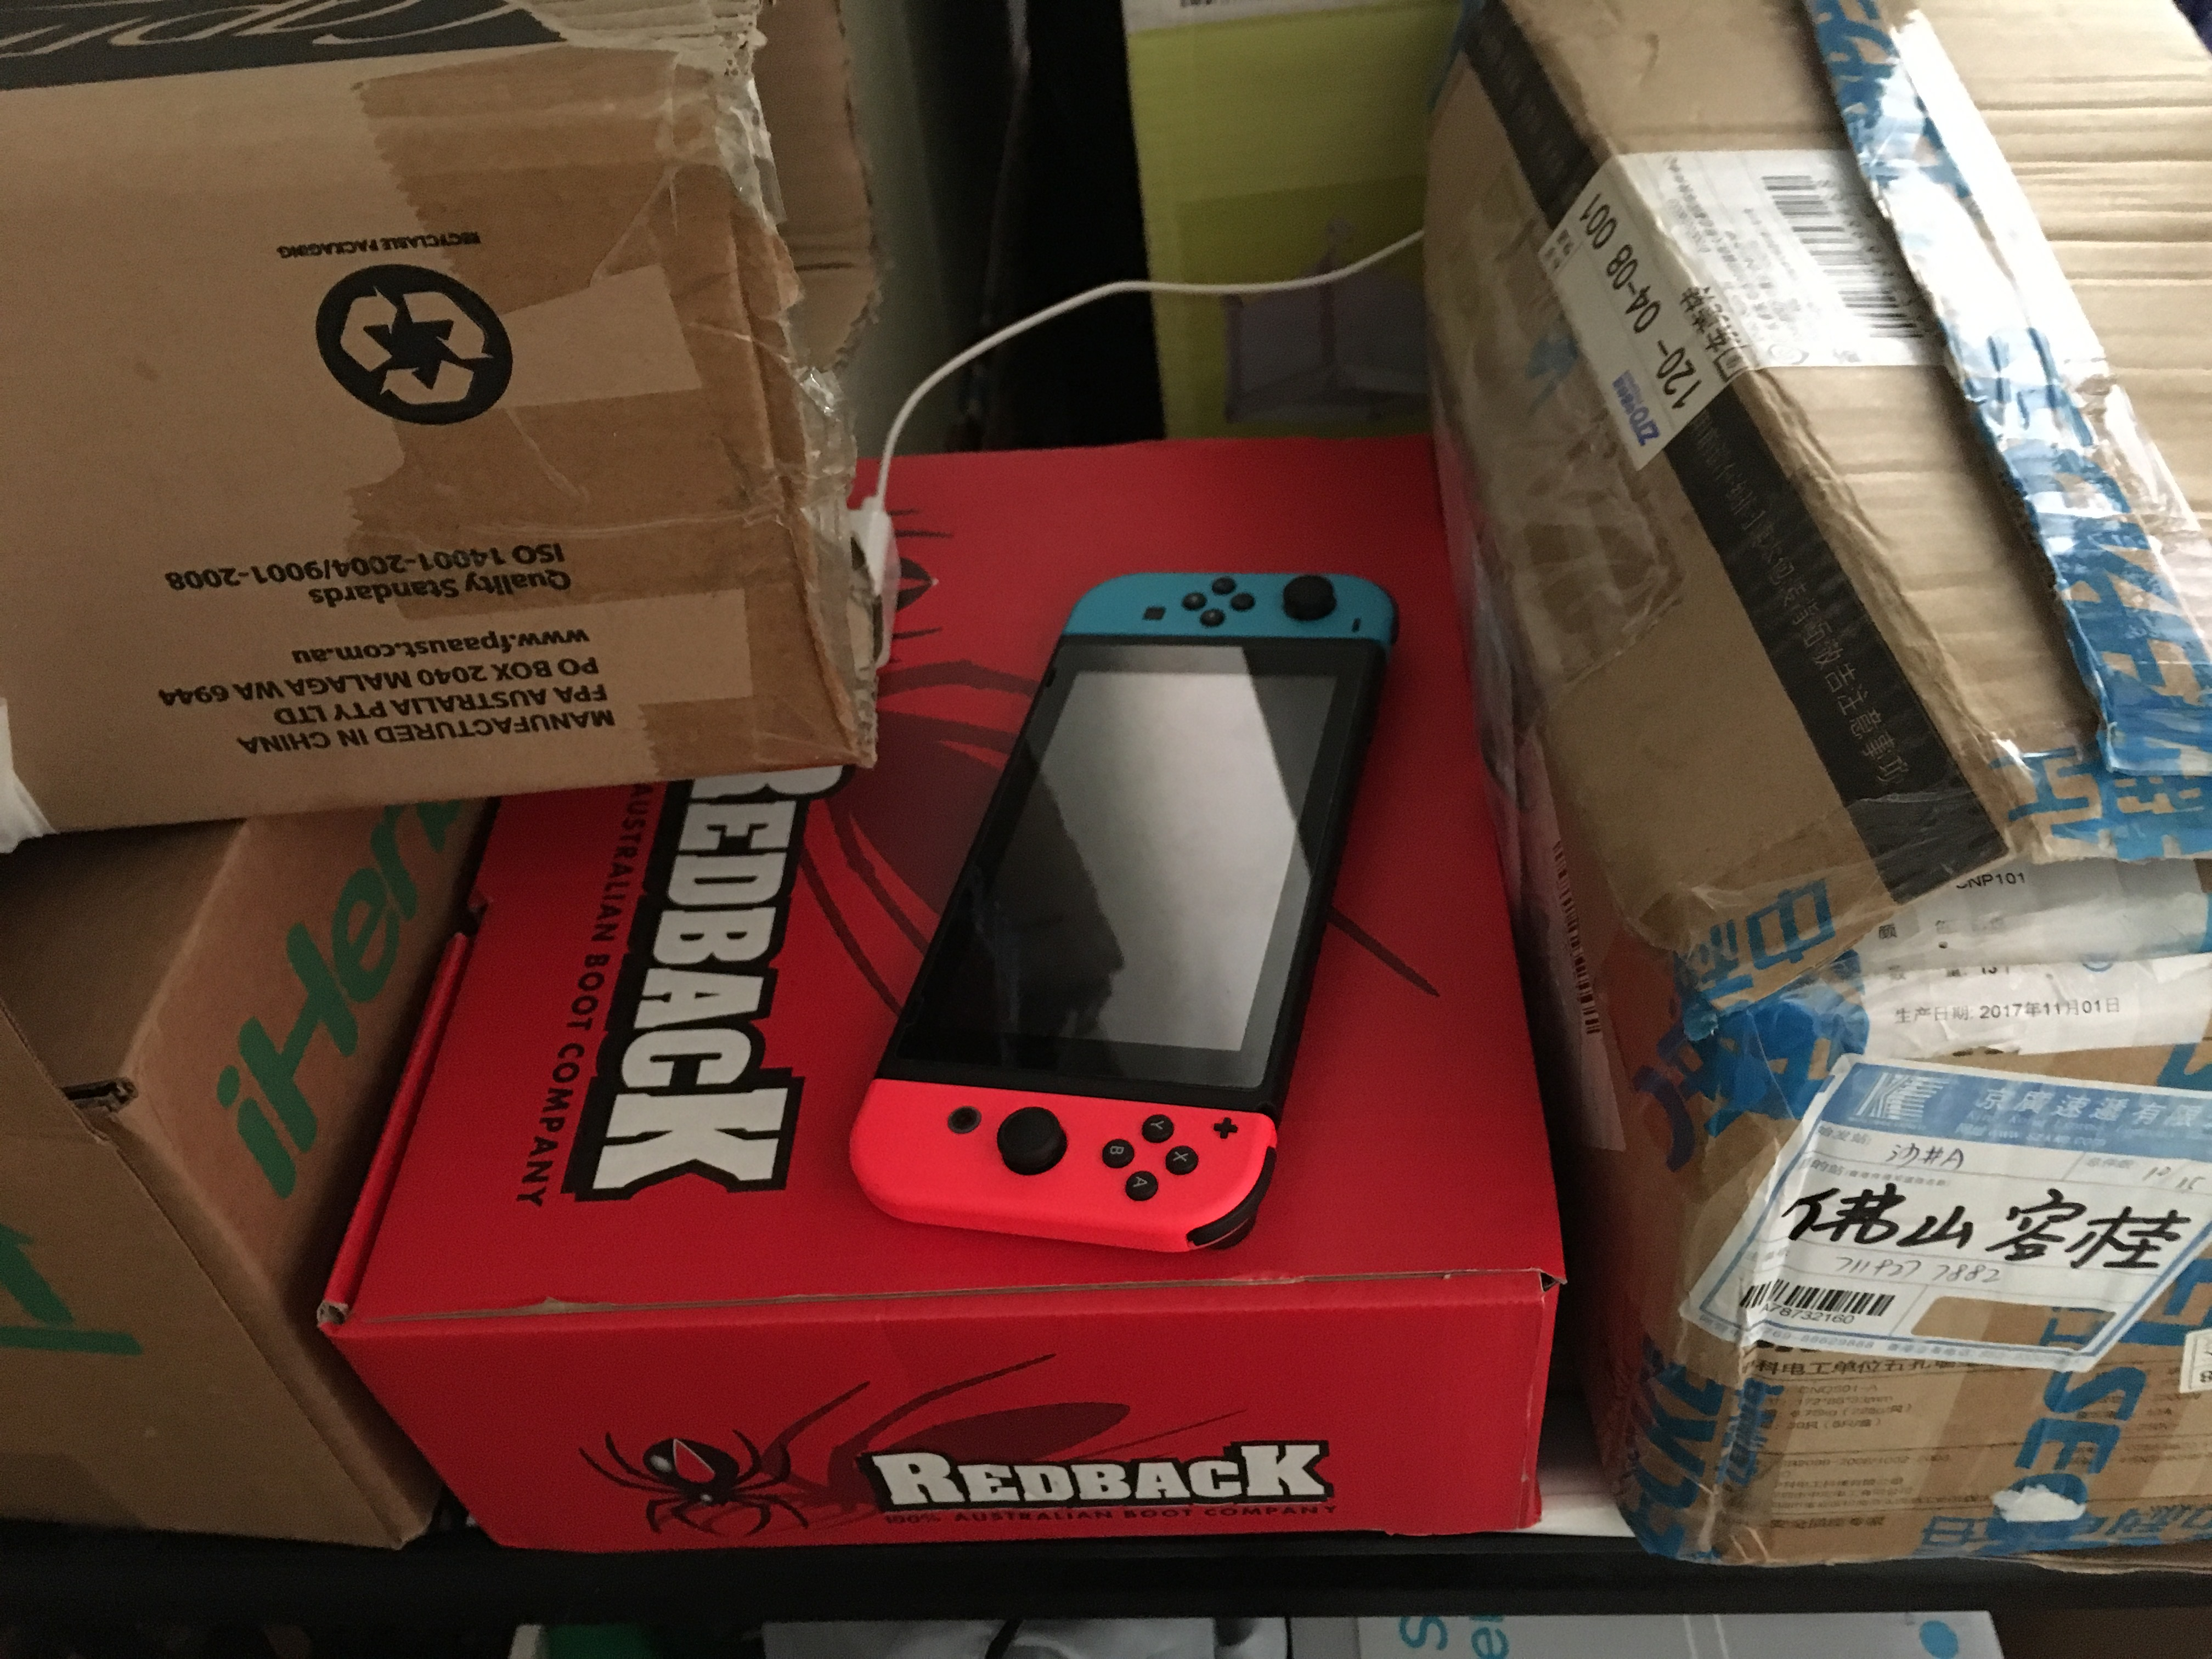NintendoSwitch: (836, 554, 1407, 1260)
